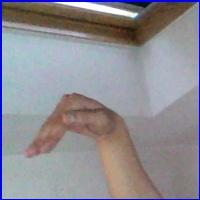del: (22, 87, 132, 169)
